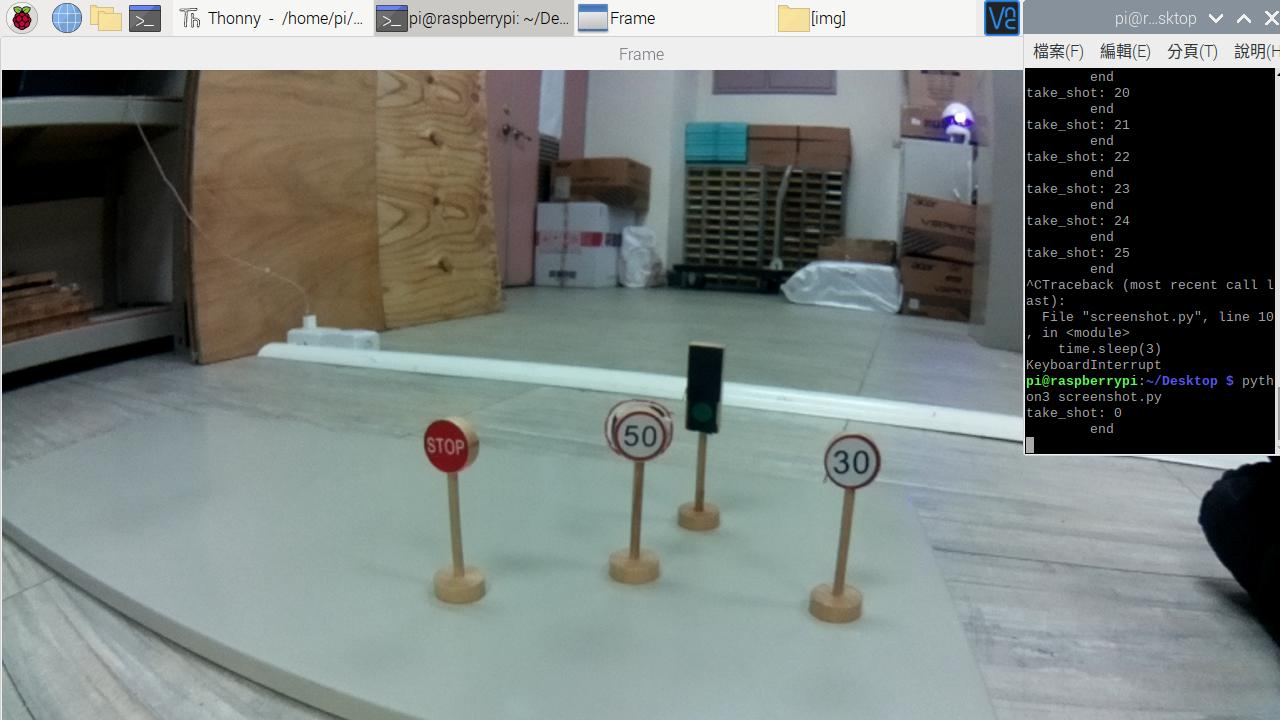Green: (692, 336, 715, 430)
Speed30: (829, 433, 874, 487)
Speed50: (614, 399, 664, 464)
Stop: (420, 421, 477, 466)
